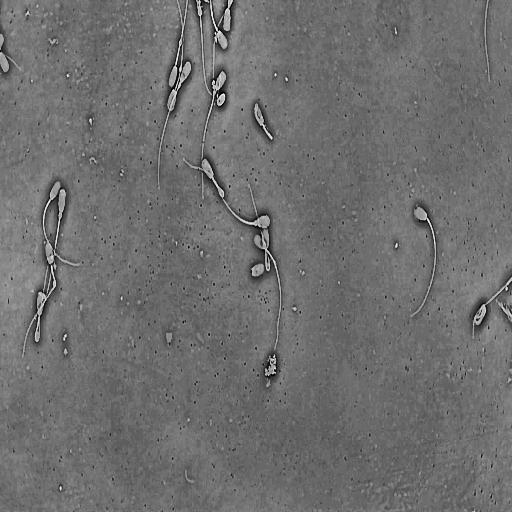coiled-tail: (256, 114, 272, 140), (474, 304, 485, 324), (255, 103, 258, 119)
dirt-particles: (263, 350, 279, 381), (215, 91, 227, 107), (211, 78, 216, 91)
distal-droplet: (179, 39, 182, 47), (53, 279, 56, 287), (179, 66, 182, 72)
folded-tail: (249, 186, 270, 272), (184, 158, 224, 198), (34, 265, 49, 342), (214, 181, 223, 196), (266, 251, 269, 269)
loose-head: (250, 260, 266, 281)
loose-tail: (471, 273, 512, 341), (482, 0, 493, 93)
normal: (157, 60, 192, 192), (21, 240, 57, 361), (41, 177, 84, 269), (201, 68, 228, 201), (253, 233, 282, 352), (409, 204, 438, 319), (42, 185, 66, 308), (215, 184, 272, 231), (247, 180, 271, 275), (166, 0, 185, 114), (167, 0, 189, 89), (181, 156, 225, 198), (33, 256, 51, 346), (253, 101, 273, 141), (472, 303, 487, 328)
proximal-droplet: (213, 88, 217, 96), (254, 220, 258, 226), (59, 212, 62, 220), (178, 82, 181, 89)
